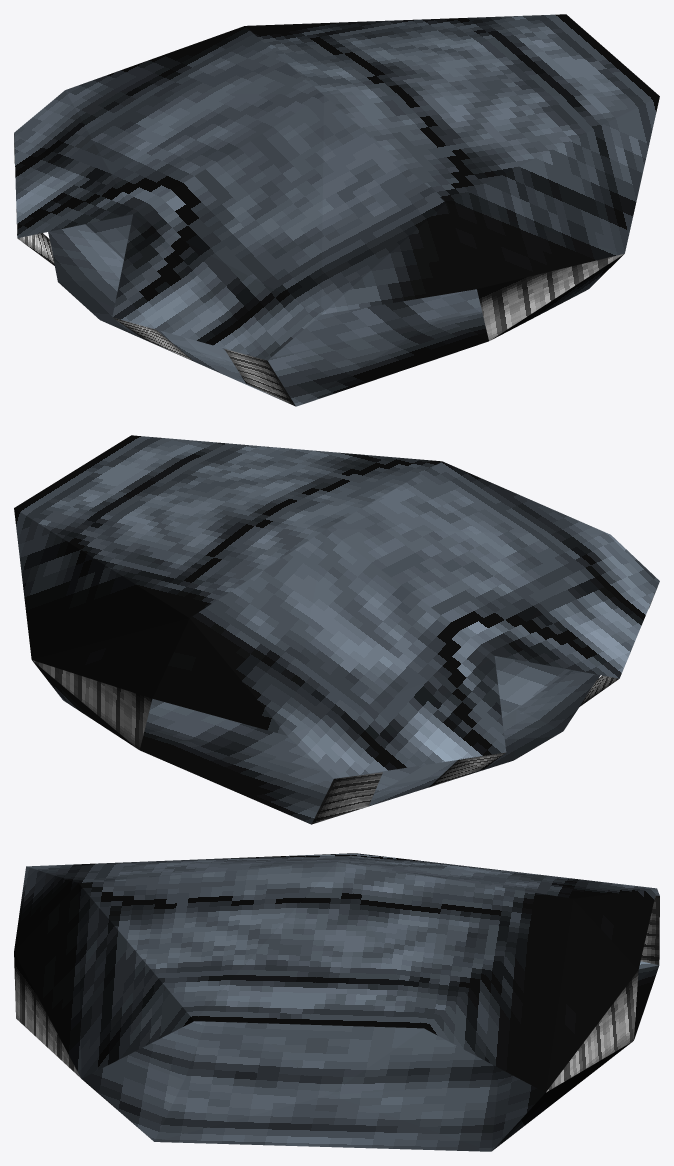
Rendered from primary_076.glb.
3 views of the same model, one above another, from view 1: azimuth 30°, elevation 25°; view 2: azimuth 150°, elevation 25°; view 3: azimuth 270°, elevation 25° (orthographic). The views are drawn at different scales.
Parts seen in each view (by area): view 1: Object; view 2: Object; view 3: Object.
Boxes of the visible parts, x1,y1,x2,y2 form: Object: (14,14,659,406); Object: (14,435,659,824); Object: (14,853,659,1151).
Bounding box in the file's own units: 0.7018 × 0.2409 × 0.6807.
Materials: 7 (7 with a texture image).
